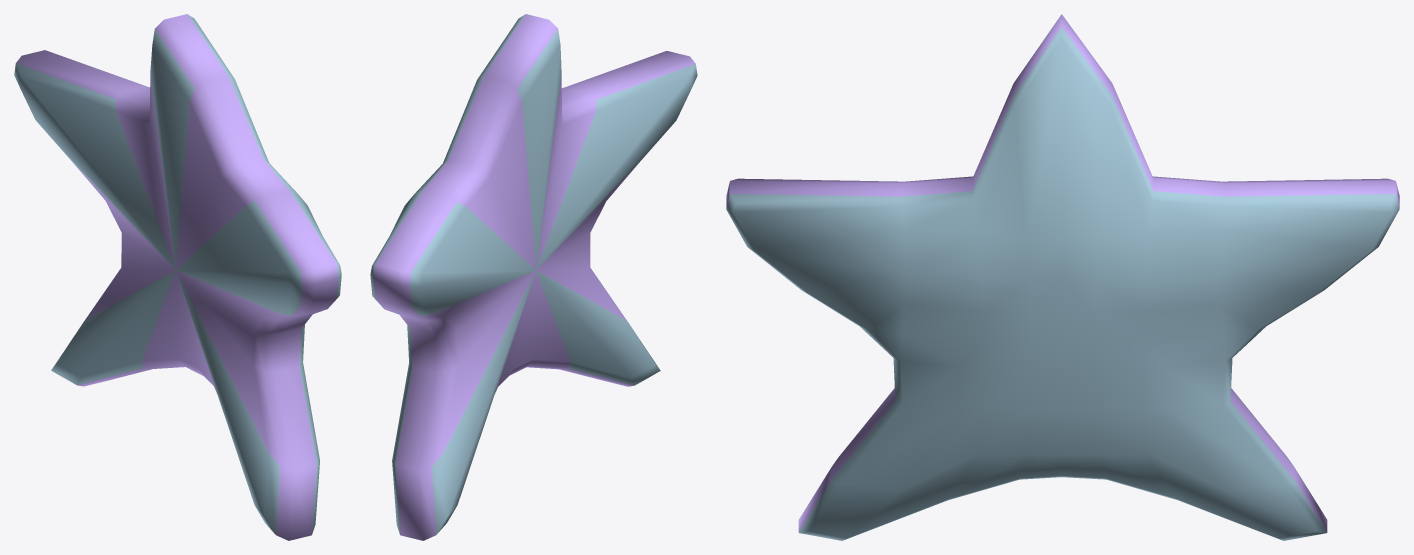
Rendered from Estrella.fbx.
3 renders of one model, left to right at view 1: azimuth 30°, elevation 25°; view 2: azimuth 150°, elevation 25°; view 3: azimuth 270°, elevation 25°, orthographic. The views are drawn at different scales.
Visible parts, largest first — view 1: Estrella; view 2: Estrella; view 3: Estrella.
Part boxes in pixels (left/top/right/bottom): Estrella: left=14, top=14, right=341, bottom=540; Estrella: left=370, top=14, right=697, bottom=540; Estrella: left=726, top=14, right=1399, bottom=540.
Size of the model in its own units: 18.97 by 75.4 by 91.22.
